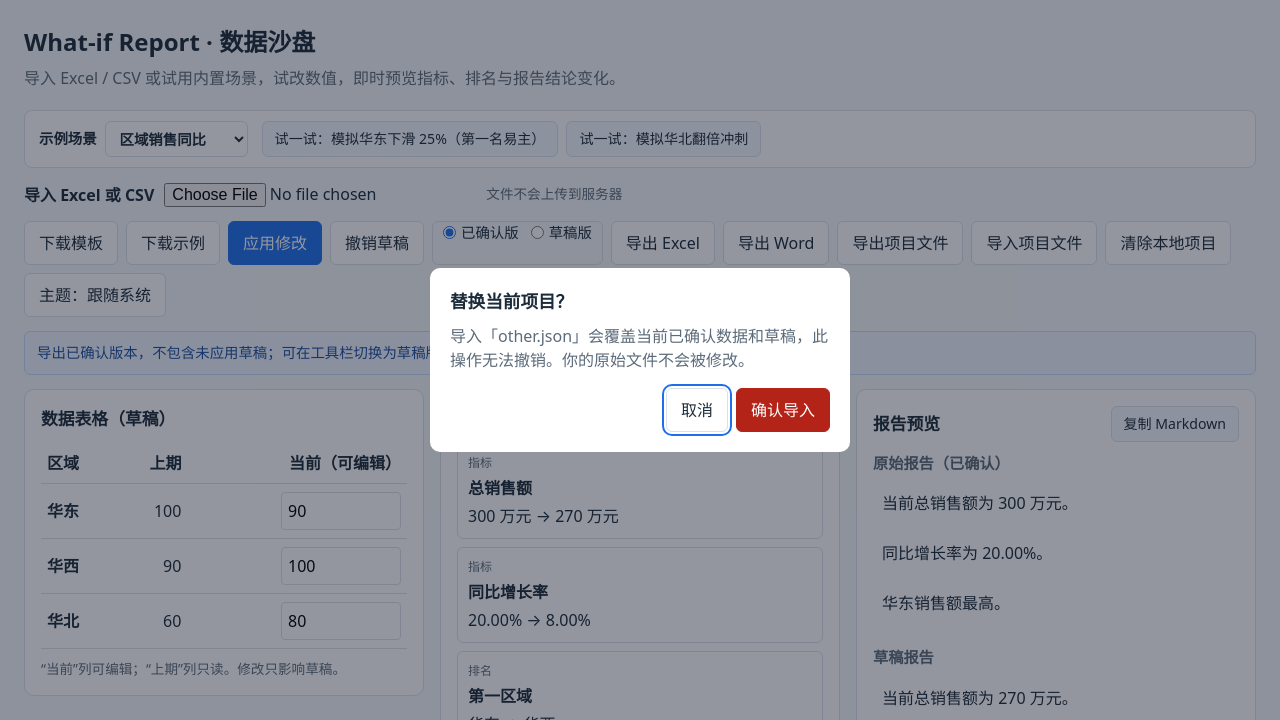
Scenario: import overwrite confirmation › applies the pending import after confirmation
The width and height of the screenshot is (1280, 720).
Earlier steps of the test are not shown.
Expected: the dialog "替换当前项目？" is shown, [430,268,850,452]
Click the button "确认导入" at (783, 410), box [736,388,830,432]
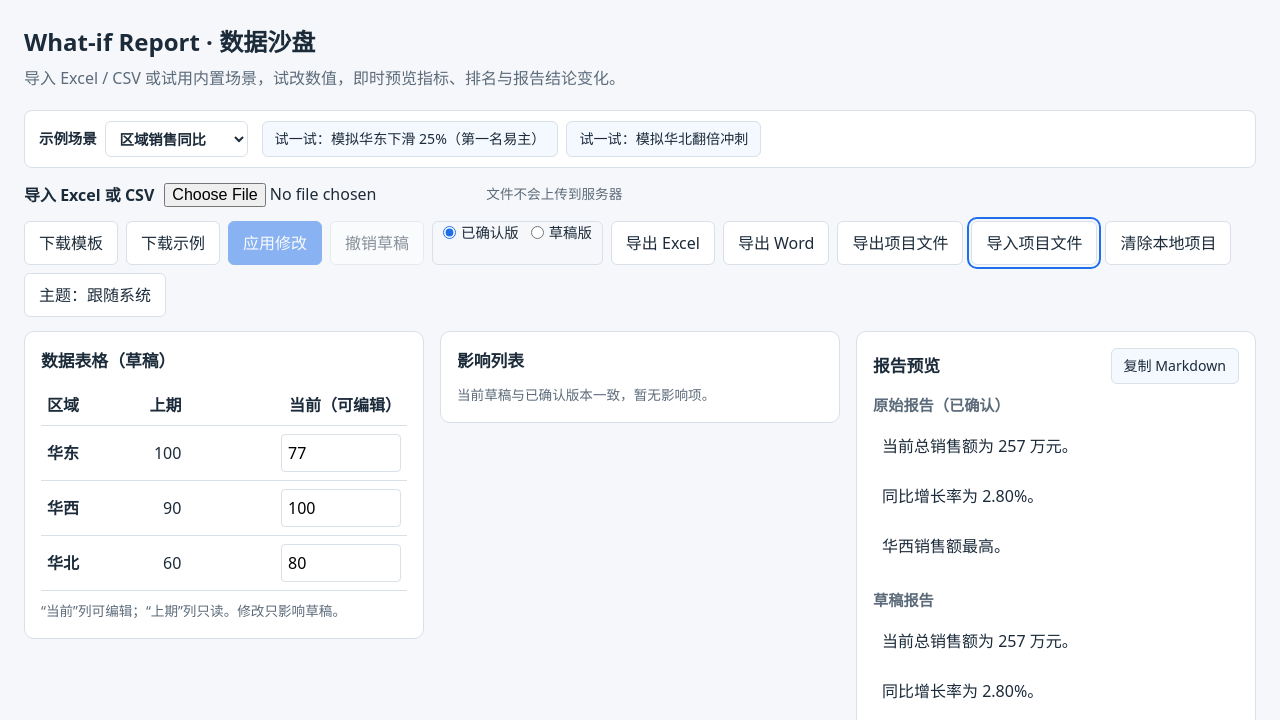
Result: the number field named "华东当前销售额" holds "77" at [281,434,401,472]
Result: the dialog is gone
Result: the button "应用修改" is disabled at [228,221,322,265]
